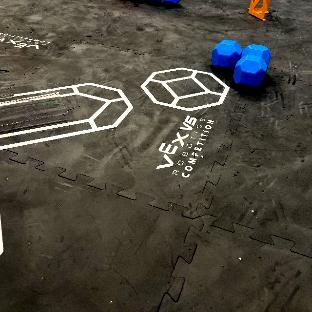V5_BLUE: (211, 40, 271, 87)
